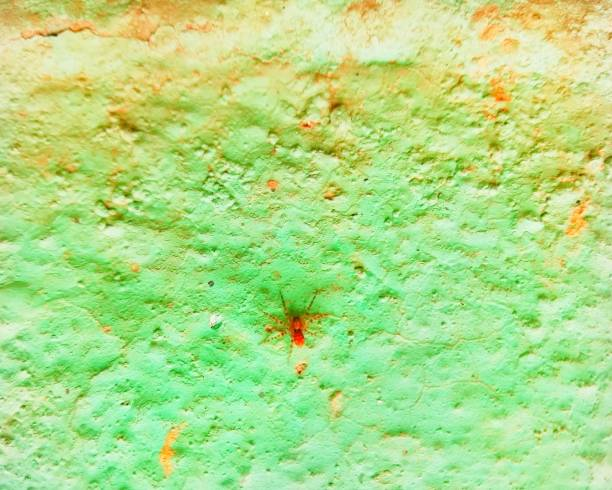Mites: (251, 289, 337, 364)
